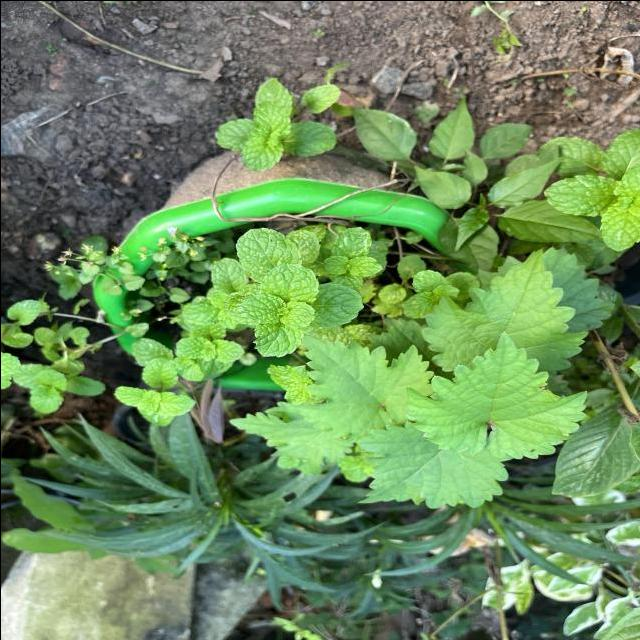Mentha spicata: (233, 226, 302, 282), (258, 262, 320, 304), (312, 280, 364, 328), (251, 322, 303, 357), (277, 300, 317, 328), (347, 254, 383, 276)
